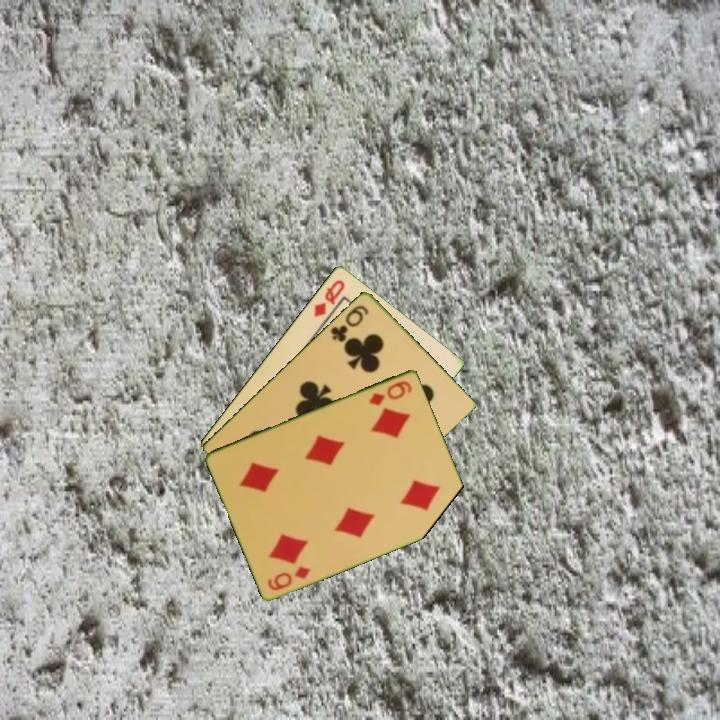6c: (327, 301, 371, 345)
6d: (365, 377, 415, 408), (264, 562, 314, 593)
Qd: (310, 275, 348, 319)
